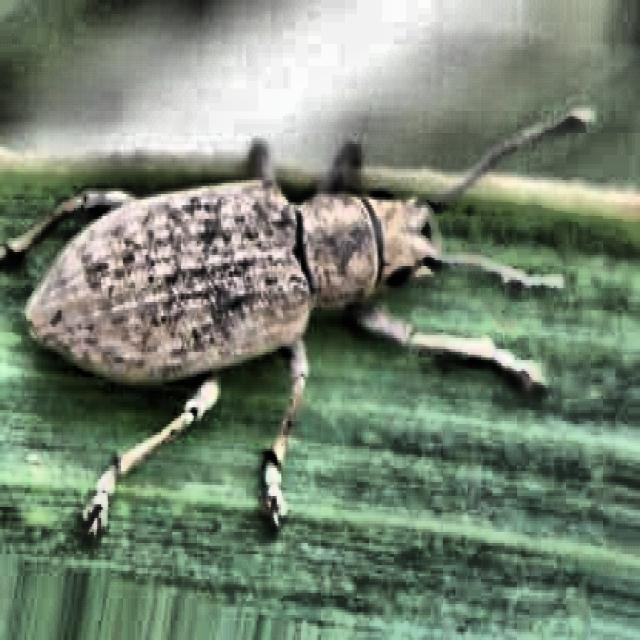Stink bug: (23, 80, 528, 467)
